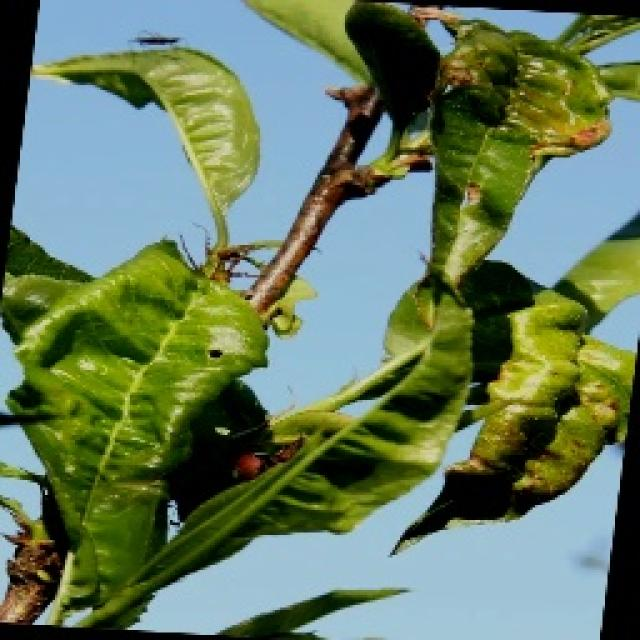peach_leaf_curl: (18, 192, 358, 640), (376, 0, 640, 515)
